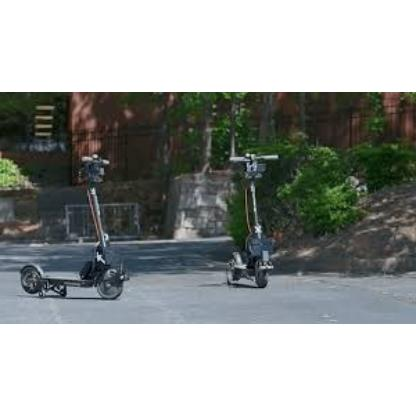bike: (19, 235, 130, 301)
car: (19, 236, 129, 301)
